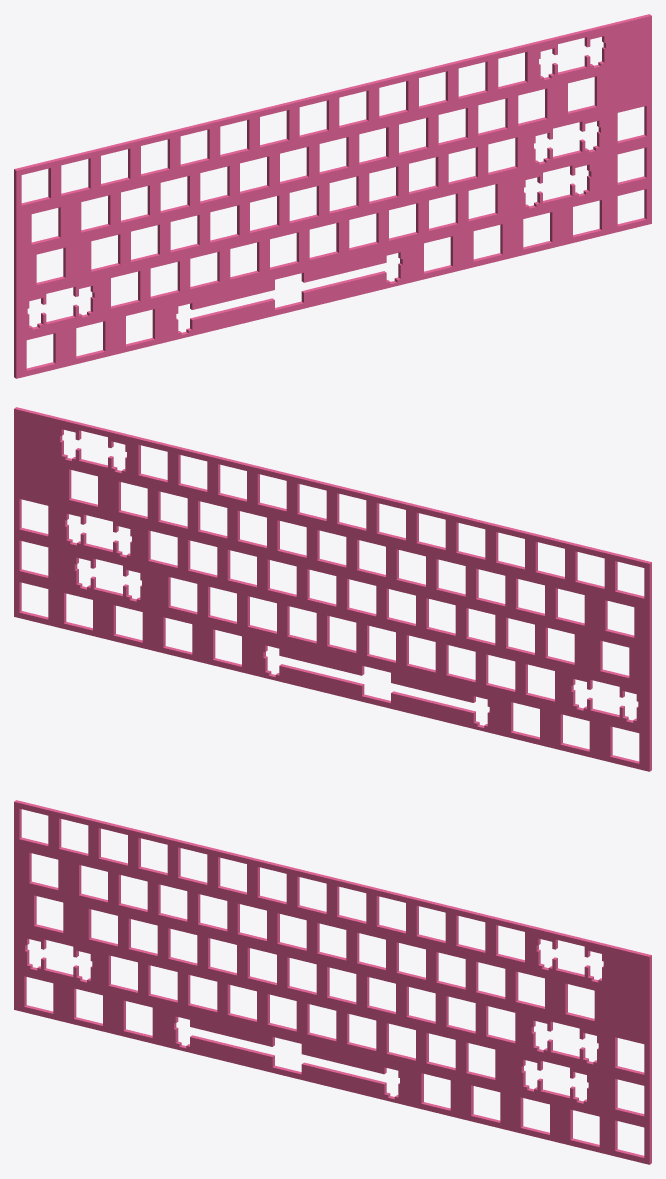
The model's file is tinker.obj.
The picture shows the model from 3 angles, top to bottom: view 1: azimuth 30°, elevation 25°; view 2: azimuth 150°, elevation 25°; view 3: azimuth 330°, elevation 25°; orthographic projection.
Parts seen in each view (by area): view 1: obj_0; view 2: obj_0; view 3: obj_0.
Boxes of the visible parts, x1=… form: obj_0: x1=14, y1=14, x2=651, y2=378; obj_0: x1=14, y1=407, x2=651, y2=771; obj_0: x1=14, y1=800, x2=651, y2=1164.
Size of the model in its own units: 307 by 96 by 2.
